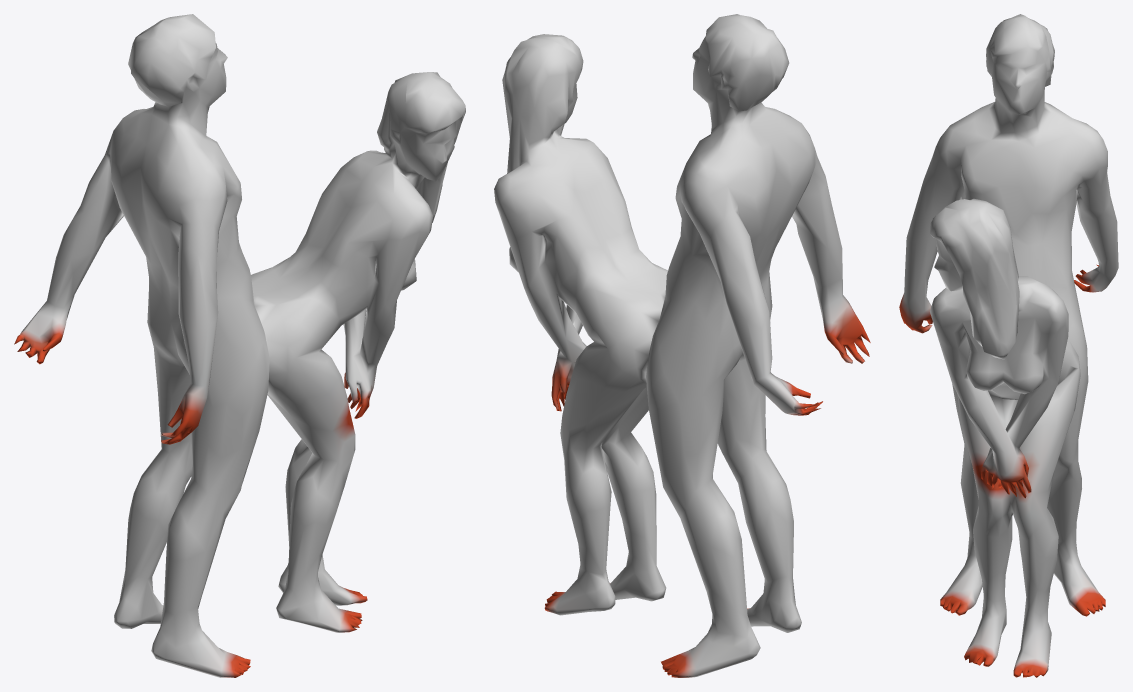
The model's file is position9 _low.fbx.
3 renders of one model, left to right at view 1: azimuth 30°, elevation 25°; view 2: azimuth 150°, elevation 25°; view 3: azimuth 270°, elevation 25°, orthographic. The views are drawn at different scales.
Visible parts, largest first — view 1: male; view 2: male; view 3: male.
Boxes of the visible parts, bbox=[...] form: male: bbox=[14, 14, 465, 677]; male: bbox=[494, 14, 870, 677]; male: bbox=[899, 14, 1118, 677].
Size of the model in its own units: 31.86 by 51.33 by 17.56.
